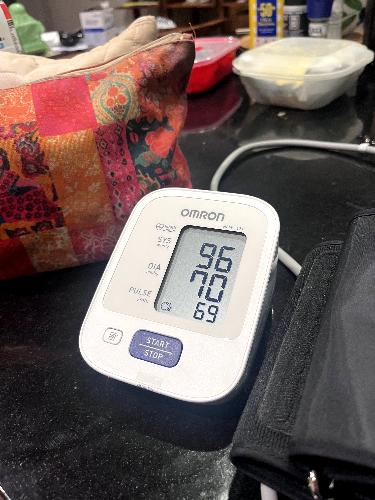bpm: (146, 208, 251, 332)
